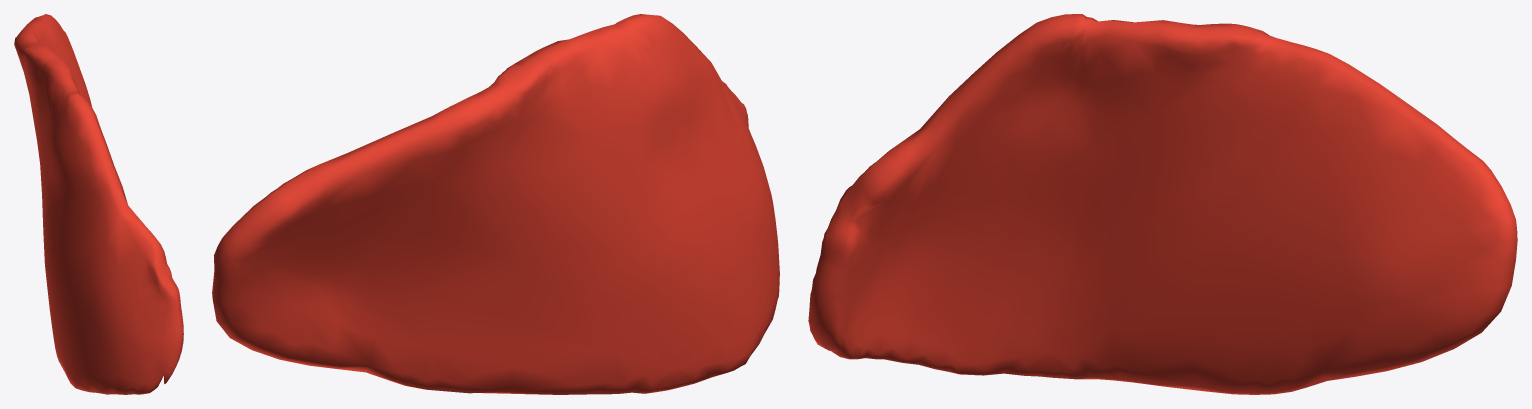
File: Biceps_brachii_short_head_coracoid_process_right.glb
3 views of the same model, side by side, from view 1: azimuth 30°, elevation 25°; view 2: azimuth 150°, elevation 25°; view 3: azimuth 270°, elevation 25° (orthographic). The views are drawn at different scales.
Visible parts, largest first — view 1: Short_head_of_biceps_brachii_on_coracoid_process_of_scapula.; view 2: Short_head_of_biceps_brachii_on_coracoid_process_of_scapula.; view 3: Short_head_of_biceps_brachii_on_coracoid_process_of_scapula..
Part boxes in pixels (x1,y1,x2,y2): Short_head_of_biceps_brachii_on_coracoid_process_of_scapula.: (14, 14, 183, 394); Short_head_of_biceps_brachii_on_coracoid_process_of_scapula.: (212, 14, 779, 394); Short_head_of_biceps_brachii_on_coracoid_process_of_scapula.: (808, 14, 1517, 394).
Bounding box in the file's own units: 0.00421 × 0.00568 × 0.00966.
